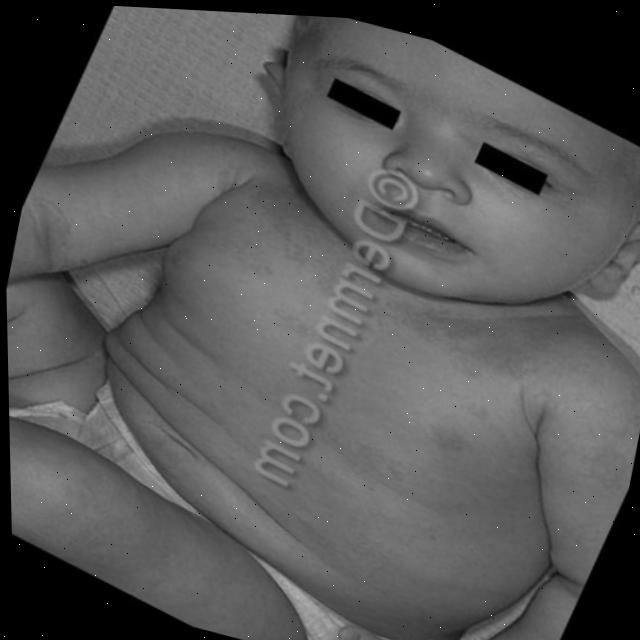Eczema: (210, 161, 575, 421)
